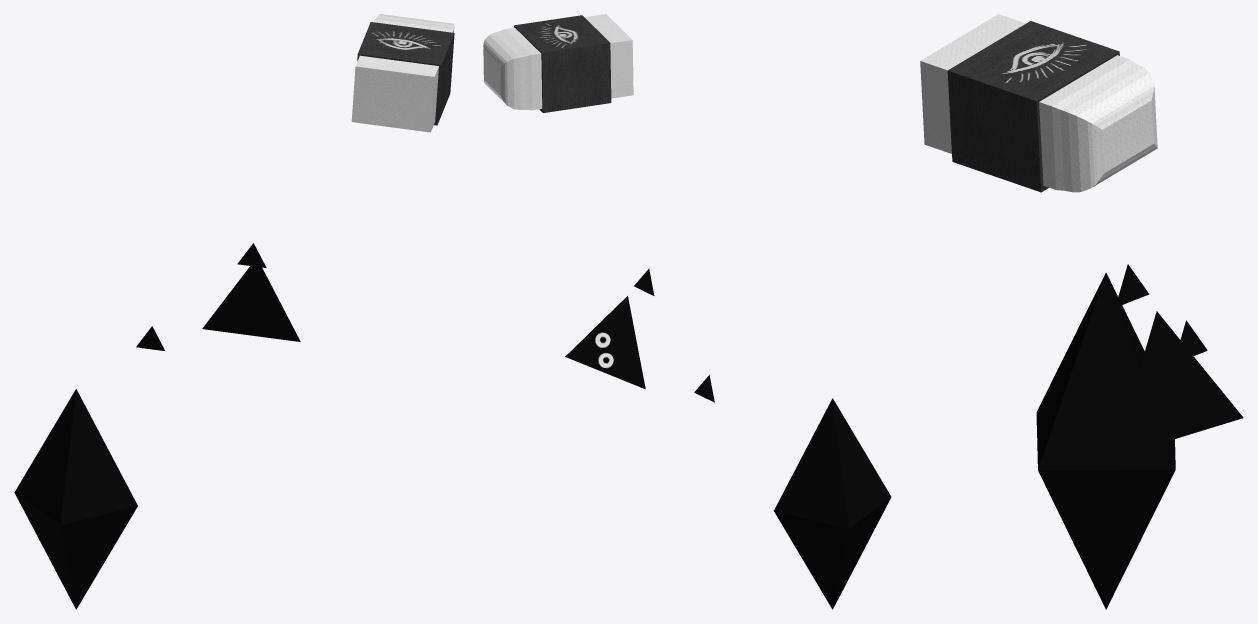
Rendered from personagem teste textures.fbx.
The picture shows the model from 3 angles, left to right: view 1: azimuth 30°, elevation 25°; view 2: azimuth 150°, elevation 25°; view 3: azimuth 270°, elevation 25°; orthographic projection. The views are drawn at different scales.
Parts seen in each view (by area): view 1: Borracha, Corpo cima, Corpo baixo, Cabeça; view 2: Borracha, Corpo cima, Corpo baixo, Cabeça; view 3: Borracha, Corpo cima, Corpo baixo, Cabeça, Mão esquerda, Mão direita.
Part boxes in pixels (x1,y1,x2,y2): Borracha: (351,14,454,132); Corpo cima: (14,389,137,525); Corpo baixo: (15,493,137,609); Cabeça: (202,266,300,341); Borracha: (483,14,633,112); Corpo cima: (774,398,891,528); Corpo baixo: (774,497,890,609); Cabeça: (565,296,645,389); Borracha: (920,14,1157,192); Corpo cima: (1036,272,1175,470); Corpo baixo: (1038,470,1175,609); Cabeça: (1114,311,1243,457); Mão esquerda: (1115,264,1149,307); Mão direita: (1180,320,1207,355).
Size of the model in its own units: 340 by 407 by 153.
Materials: 6 (6 with a texture image).
